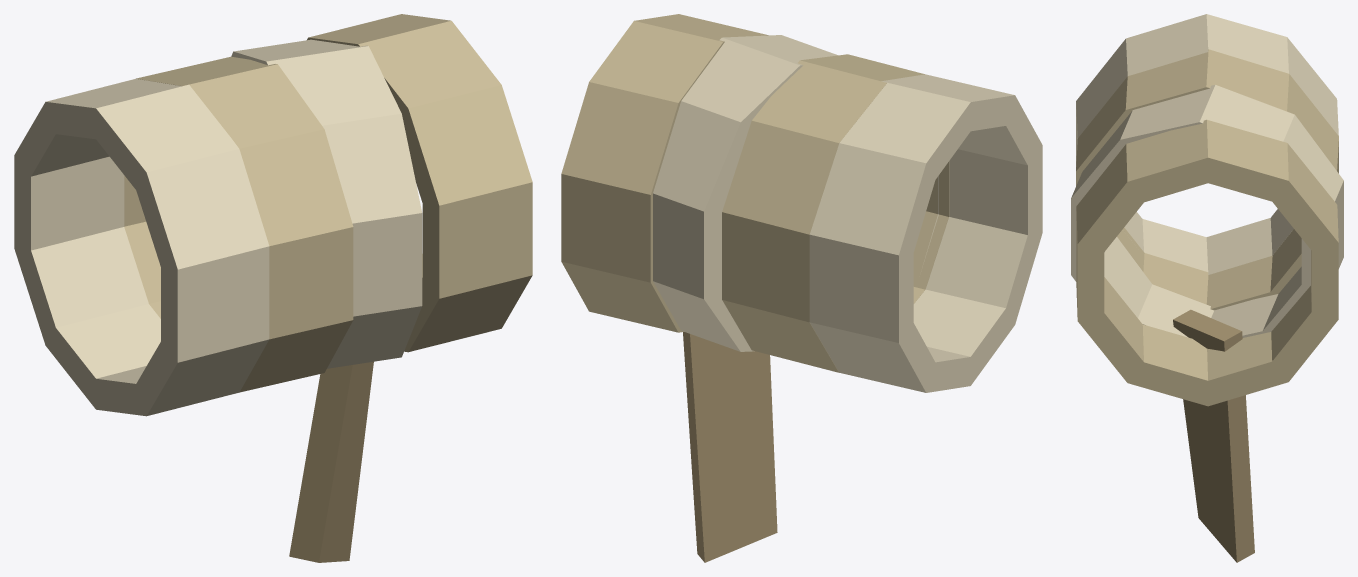
Rendered from mummy_arm_l.glb.
3 views of the same model, side by side, from view 1: azimuth 30°, elevation 25°; view 2: azimuth 150°, elevation 25°; view 3: azimuth 270°, elevation 25° (orthographic). The views are drawn at different scales.
Visible parts, largest first — view 1: mummy_arm_l; view 2: mummy_arm_l; view 3: mummy_arm_l.
Part boxes in pixels (x1,y1,x2,y2): mummy_arm_l: (14,14,532,562); mummy_arm_l: (561,14,1042,562); mummy_arm_l: (1071,14,1343,562).
Size of the model in its own units: 0.2685 by 0.3781 by 0.2127.
